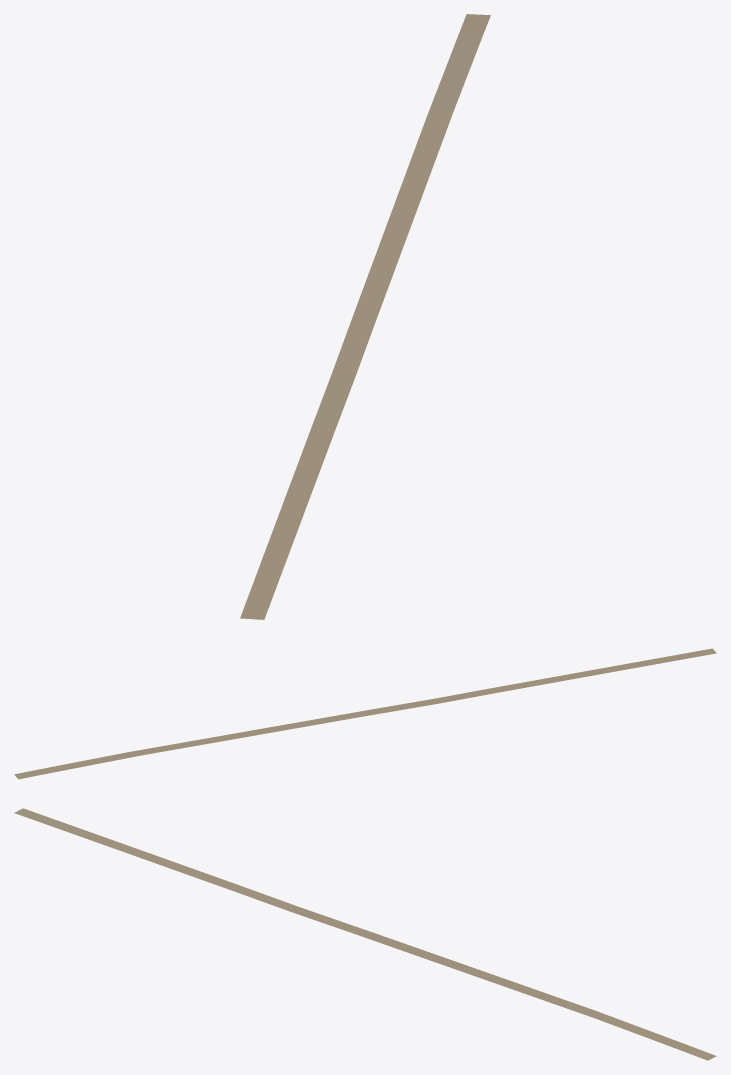
The model's file is farm_-36_-39_track.glb.
The picture shows the model from 3 angles, top to bottom: view 1: azimuth 30°, elevation 25°; view 2: azimuth 150°, elevation 25°; view 3: azimuth 270°, elevation 25°; orthographic projection. The views are drawn at different scales.
Parts seen in each view (by area): view 1: geometry_0; view 2: geometry_0; view 3: geometry_0.
Boxes of the visible parts, bbox=[...] form: geometry_0: bbox=[240, 14, 490, 619]; geometry_0: bbox=[14, 648, 716, 779]; geometry_0: bbox=[14, 808, 716, 1060].
Size of the model in its own units: 127 by 3.24 by 158.
